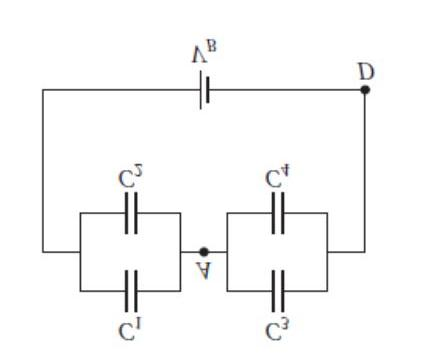Capacitor: (110, 186, 152, 237)
